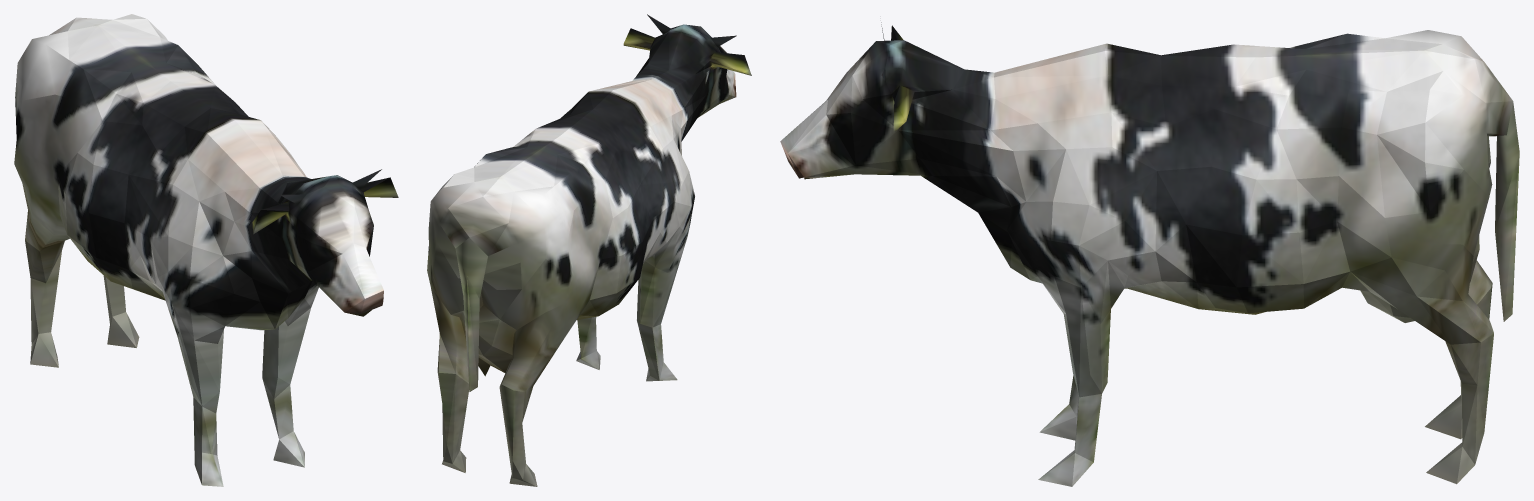
File: eid_al-adha_cow.glb
3 views of the same model, side by side, from view 1: azimuth 30°, elevation 25°; view 2: azimuth 150°, elevation 25°; view 3: azimuth 270°, elevation 25° (orthographic). The views are drawn at different scales.
Parts seen in each view (by area): view 1: extra2.001; view 2: extra2.001; view 3: extra2.001.
Boxes of the visible parts, x1,y1,x2,y2 form: extra2.001: [14, 14, 398, 486]; extra2.001: [427, 14, 751, 486]; extra2.001: [780, 22, 1519, 486].
Size of the model in its own units: 0.589 by 1.11 by 1.79.
Materials: 1 (1 with a texture image).
